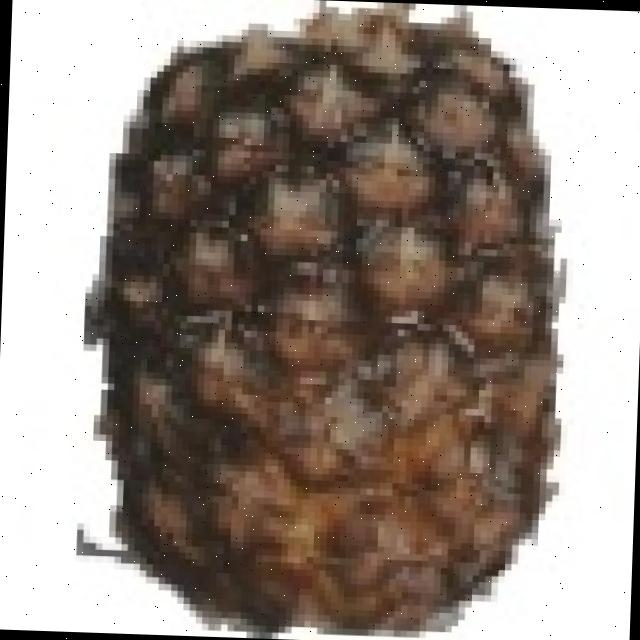pineapple: (102, 9, 566, 622)
